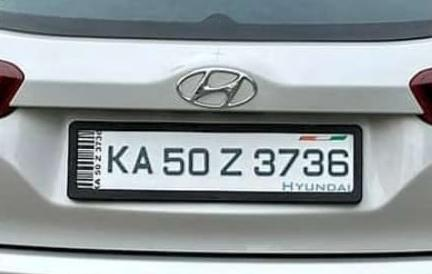0: (185, 144, 213, 178)
3: (253, 145, 275, 180), (302, 145, 325, 177)
5: (159, 144, 186, 178)
6: (326, 146, 352, 179)
7: (276, 145, 301, 180)
A: (132, 144, 155, 177)
K: (105, 143, 130, 177)
Z: (218, 145, 244, 177)
